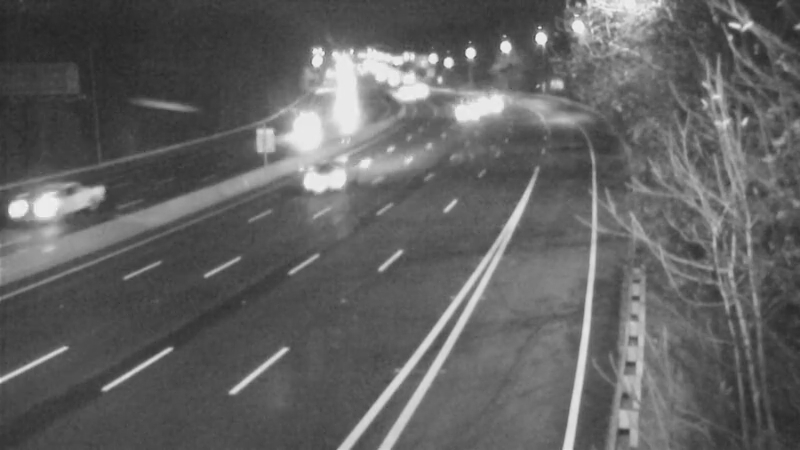vehicle: (288, 140, 368, 220), (1, 174, 78, 254), (382, 72, 432, 122), (462, 79, 512, 129), (439, 84, 489, 134), (278, 113, 328, 163), (324, 92, 374, 142)
